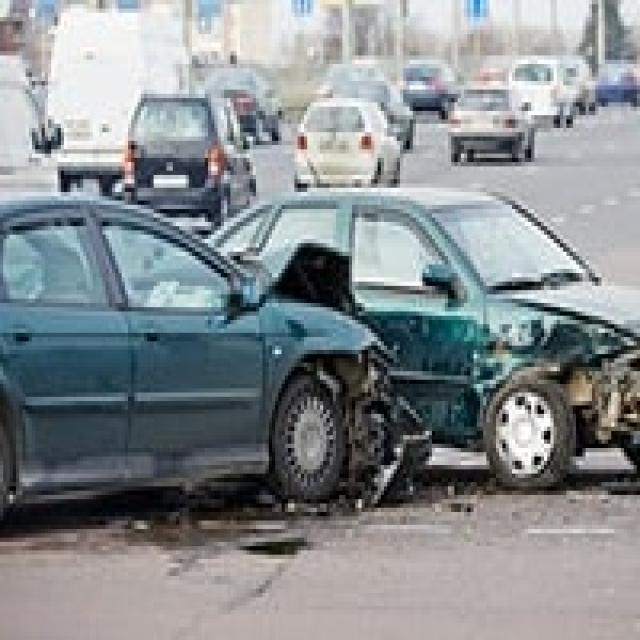crush: (476, 299, 640, 454), (303, 337, 430, 510)
